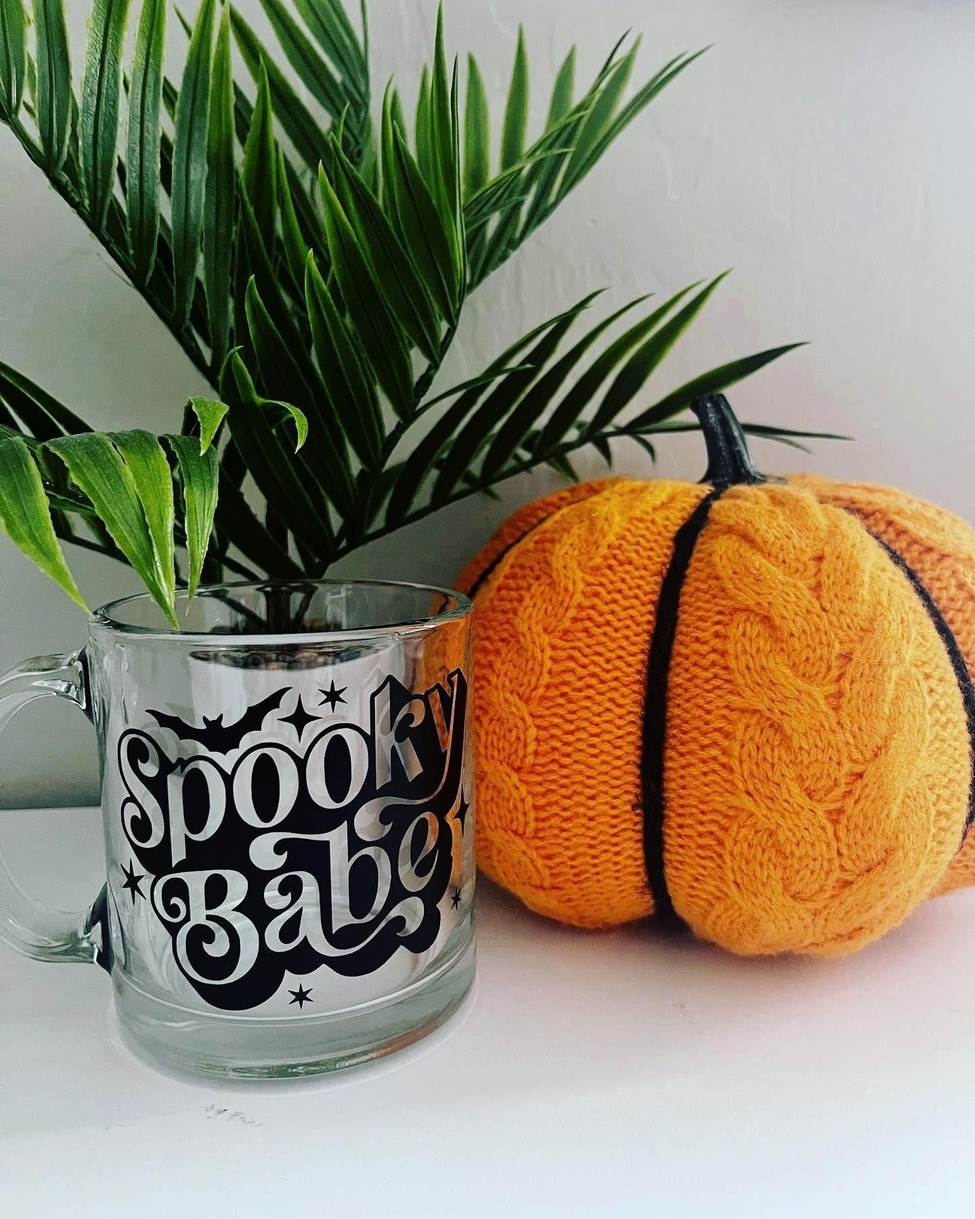glass-mug: (0, 549, 492, 1103)
